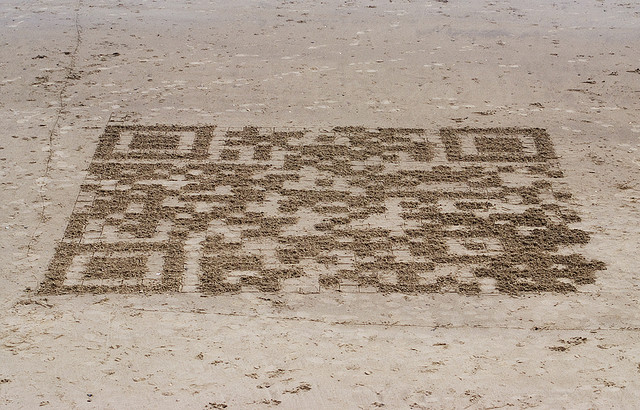QR-CODE: (37, 125, 597, 294)
